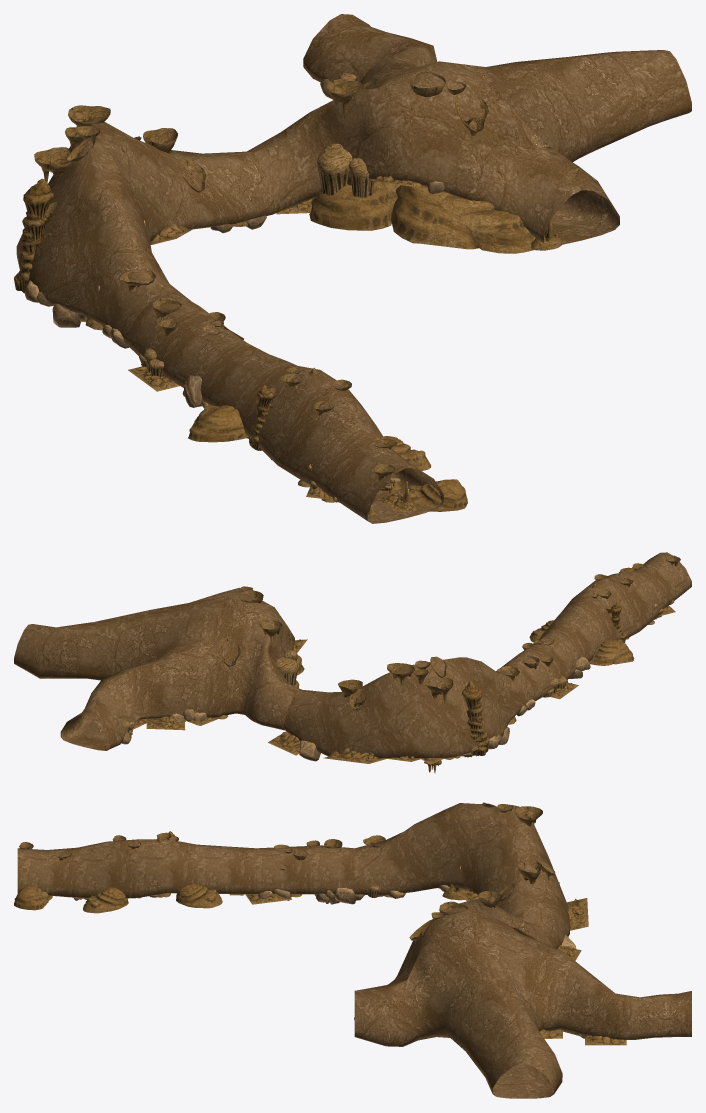
Rendered from cave.dae.
3 views of the same model, one above another, from view 1: azimuth 30°, elevation 25°; view 2: azimuth 150°, elevation 25°; view 3: azimuth 270°, elevation 25° (orthographic). The views are drawn at different scales.
Visible parts, largest first — view 1: CaveWall, Tower, Stalagmite, Rocks, RockPile; view 2: CaveWall, Stalagmite, Tower, RockPile, Rocks; view 3: CaveWall, Stalagmite, Tower, RockPile, Rocks.
Boxes of the visible parts, bbox=[...] form: CaveWall: bbox=[16, 14, 691, 523]; Tower: bbox=[14, 178, 535, 511]; Stalagmite: bbox=[34, 71, 562, 515]; Rocks: bbox=[25, 79, 444, 502]; RockPile: bbox=[128, 176, 427, 511]; CaveWall: bbox=[14, 552, 691, 758]; Stalagmite: bbox=[123, 555, 680, 773]; Tower: bbox=[294, 567, 634, 757]; RockPile: bbox=[133, 606, 675, 764]; Rocks: bbox=[99, 600, 674, 761]; CaveWall: bbox=[17, 803, 691, 1098]; Stalagmite: bbox=[19, 803, 562, 1037]; Tower: bbox=[14, 802, 486, 983]; RockPile: bbox=[79, 882, 626, 1045]; Rocks: bbox=[73, 885, 584, 1038].
Bounding box in the file's own units: 1697 × 2010 × 370.
Materials: 5 (5 with a texture image).
